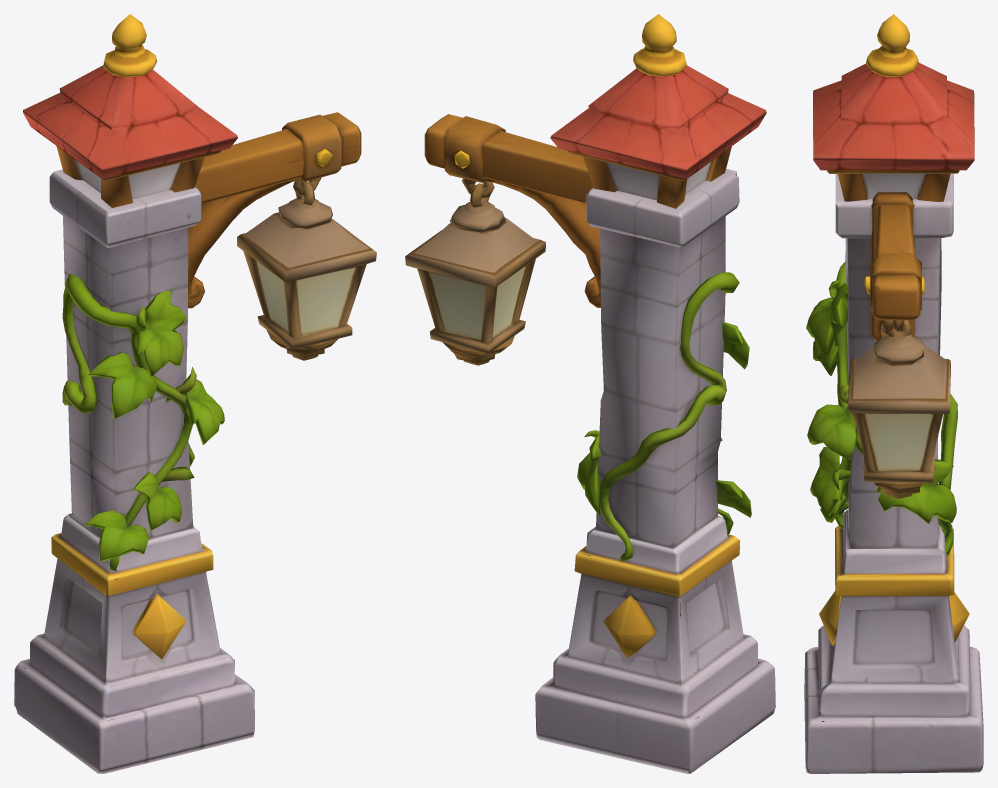
The model's file is lamp_stone.glb.
3 renders of one model, left to right at view 1: azimuth 30°, elevation 25°; view 2: azimuth 150°, elevation 25°; view 3: azimuth 270°, elevation 25°, orthographic.
Visible parts, largest first — view 1: geometry_0; view 2: geometry_0; view 3: geometry_0.
Part boxes in pixels (bbox=[...]): geometry_0: bbox=[14, 14, 376, 773]; geometry_0: bbox=[405, 14, 775, 773]; geometry_0: bbox=[804, 14, 983, 773].
Bounding box in the file's own units: 0.4219 × 0.9536 × 0.2153.
Materials: 1 (1 with a texture image).
